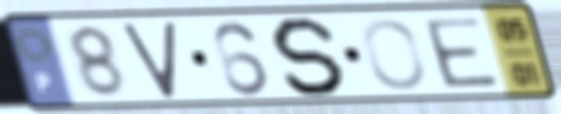6: (209, 17, 271, 99)
8: (61, 22, 132, 100)
E: (419, 15, 505, 91)
O: (359, 15, 429, 93)
S: (268, 14, 350, 98)
V: (118, 18, 179, 101)
